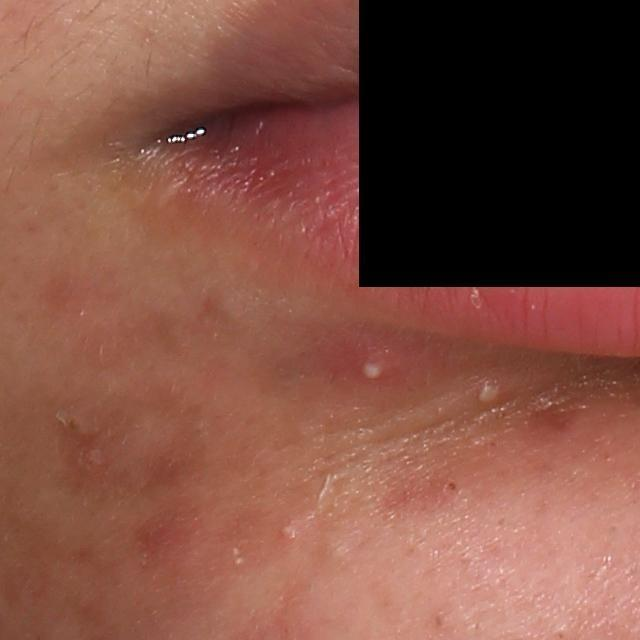comedo: (439, 476, 463, 499)
papule: (272, 515, 307, 549)
pustule: (319, 328, 424, 398), (471, 373, 516, 419)
